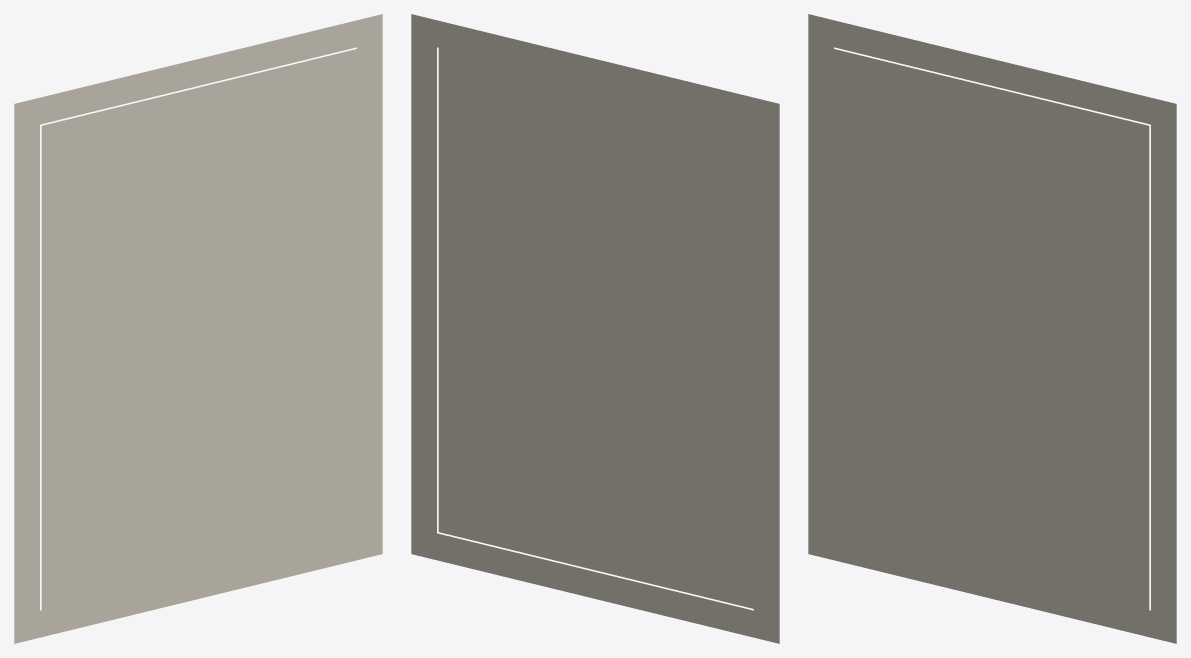
Rendered from AnhCuoi.glb.
The picture shows the model from 3 angles, left to right: view 1: azimuth 30°, elevation 25°; view 2: azimuth 150°, elevation 25°; view 3: azimuth 330°, elevation 25°; orthographic projection.
Visible parts, largest first — view 1: geometry_0; view 2: geometry_0; view 3: geometry_0.
Part boxes in pixels (left/top/right/bottom): geometry_0: left=14, top=14, right=382, bottom=643; geometry_0: left=411, top=14, right=779, bottom=643; geometry_0: left=808, top=14, right=1176, bottom=643.
Size of the model in its own units: 0.5 by 0.7 by 0.006.
